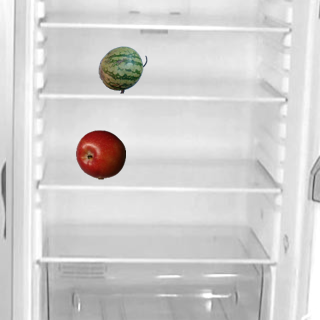Apple Braeburn: (75, 129, 125, 179)
Watermelon: (97, 44, 147, 94)
